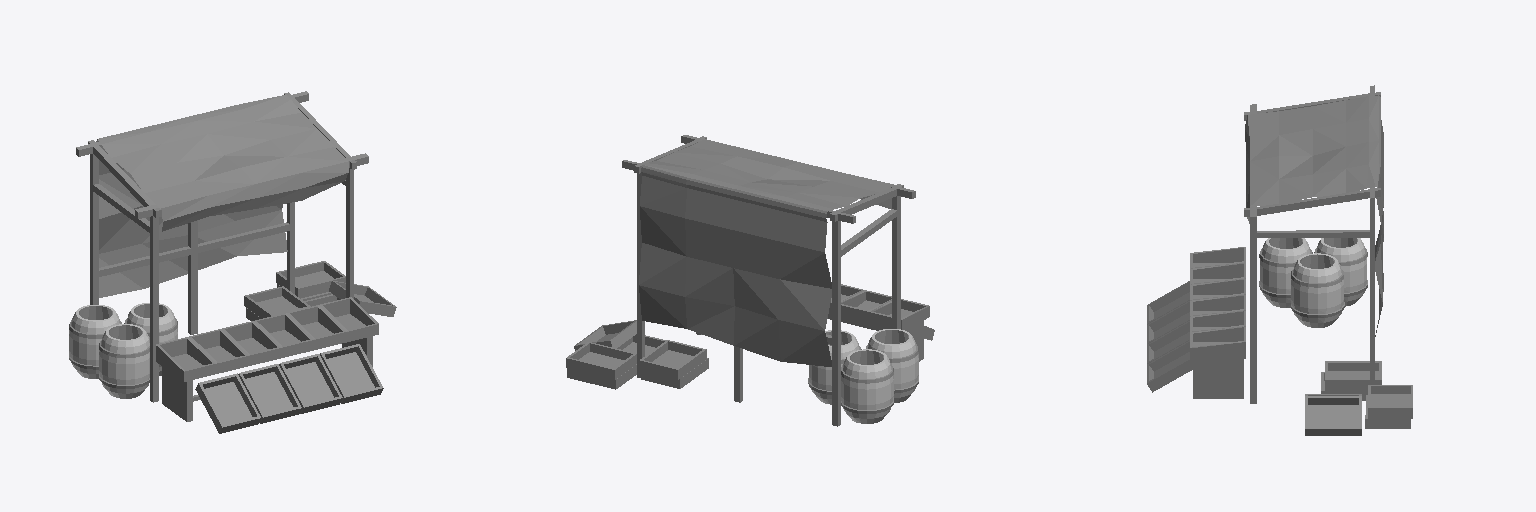
File: TradeTent1-2.obj
3 renders of one model, left to right at view 1: azimuth 30°, elevation 25°; view 2: azimuth 150°, elevation 25°; view 3: azimuth 270°, elevation 25°, orthographic.
Parts seen in each view (by area): view 1: TradeTent1, Flag, Barrels, BarrelBands; view 2: Flag, TradeTent1, Barrels, BarrelBands; view 3: TradeTent1, Flag, Barrels, BarrelBands.
Part boxes in pixels (x1,y1,x2,y2): TradeTent1: (76,91,396,433); Flag: (96,95,348,297); Barrels: (69,303,177,398); BarrelBands: (69,318,177,388); Flag: (639,139,894,366); TradeTent1: (566,135,934,426); Barrels: (809,329,918,423); BarrelBands: (808,344,918,413); TradeTent1: (1147,85,1412,435); Flag: (1245,95,1383,336); Barrels: (1260,238,1366,327); BarrelBands: (1259,248,1367,317).
Bounding box in the file's own units: 124 × 82.59 × 93.12.